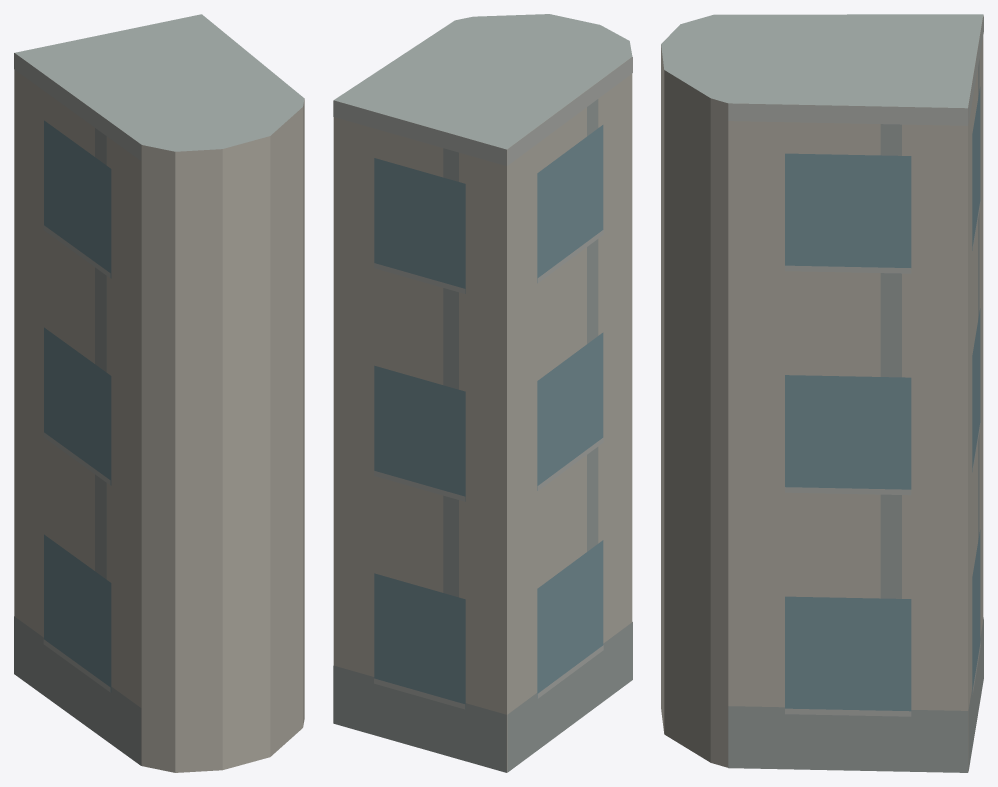
Rendered from survey-upis-32647955.glb.
The picture shows the model from 3 angles, left to right: view 1: azimuth 30°, elevation 25°; view 2: azimuth 150°, elevation 25°; view 3: azimuth 270°, elevation 25°; orthographic projection. The views are drawn at different scales.
Visible parts, largest first — view 1: survey-upis-32647955.tmp; view 2: survey-upis-32647955.tmp; view 3: survey-upis-32647955.tmp.
Part boxes in pixels (x1=…): survey-upis-32647955.tmp: x1=14, y1=14, x2=304, y2=772; survey-upis-32647955.tmp: x1=333, y1=14, x2=632, y2=772; survey-upis-32647955.tmp: x1=661, y1=14, x2=983, y2=772.
Bounding box in the file's own units: 2.79 × 9.15 × 4.03.
